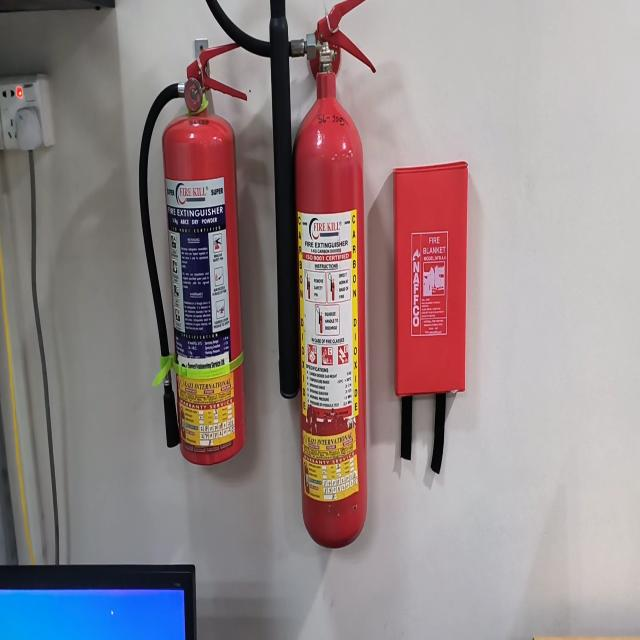Fire Extinguisher: (295, 46, 367, 547), (163, 100, 246, 465)
Monitor: (0, 589, 185, 639)
